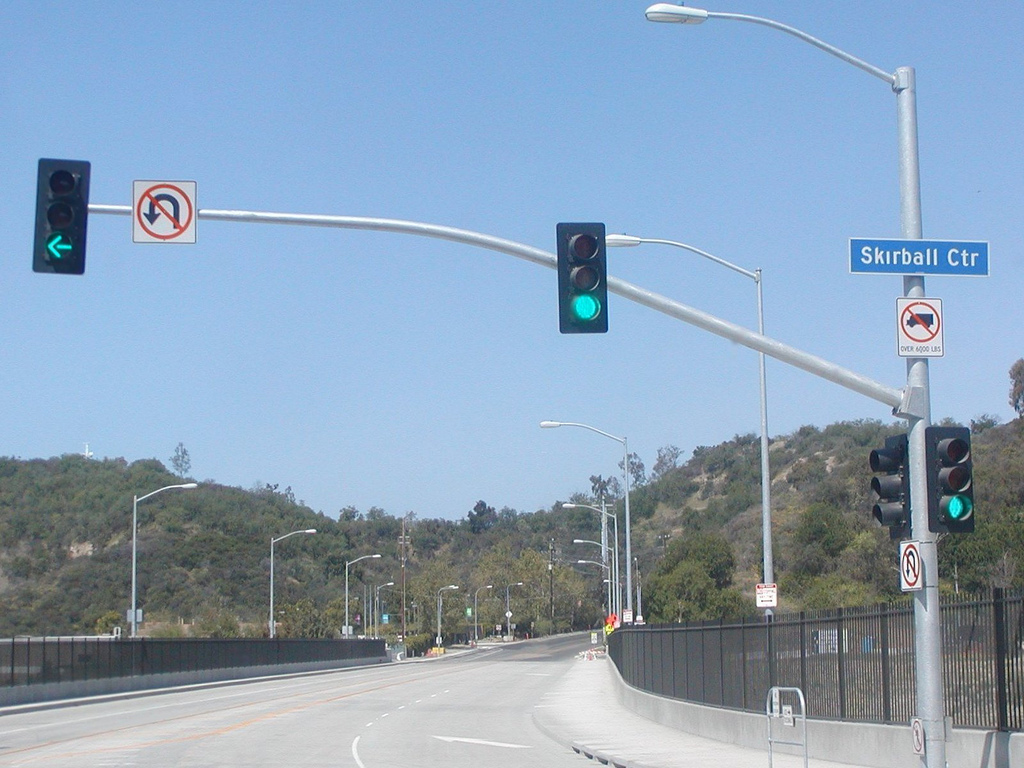traffic_light: (31, 157, 92, 277), (554, 221, 610, 335), (923, 425, 976, 535)
